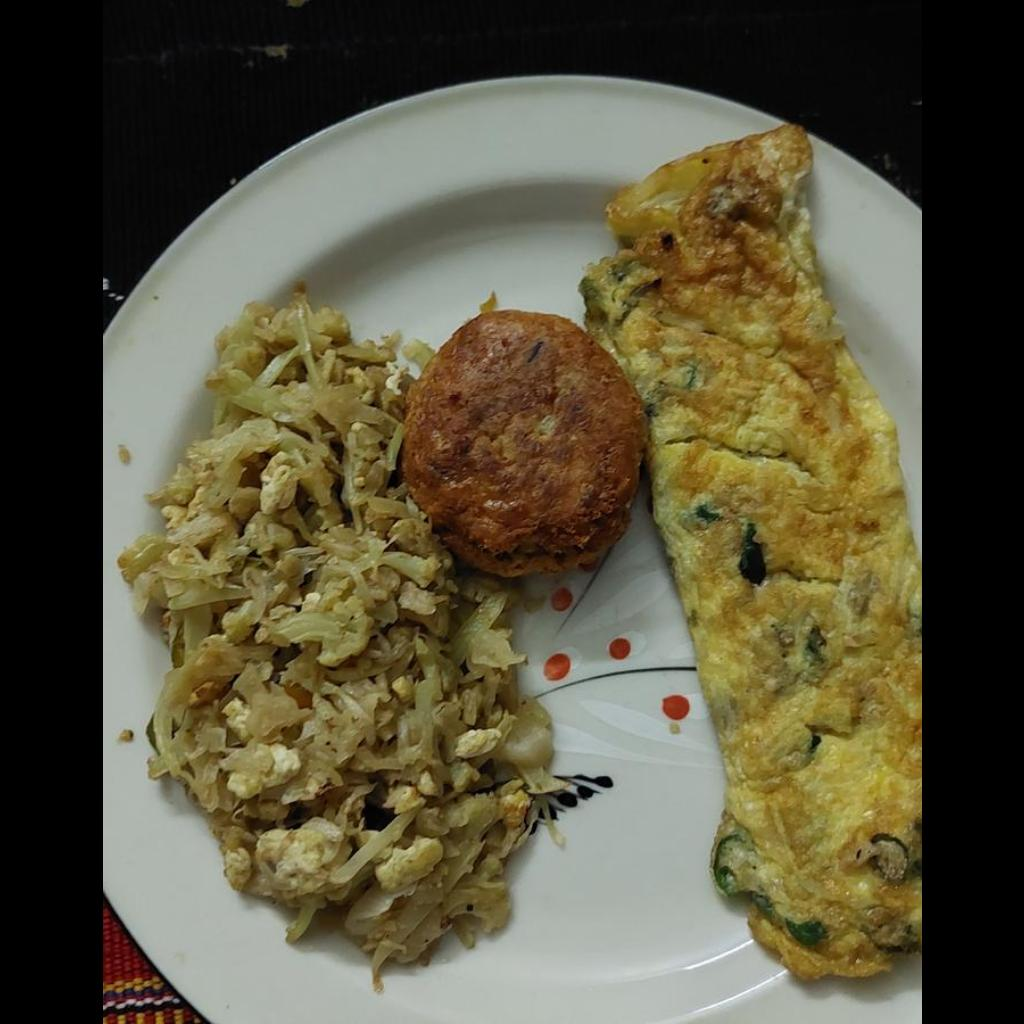egg-poached: (579, 122, 919, 984)
kabab: (408, 309, 643, 580)
vaji: (121, 290, 561, 972)
